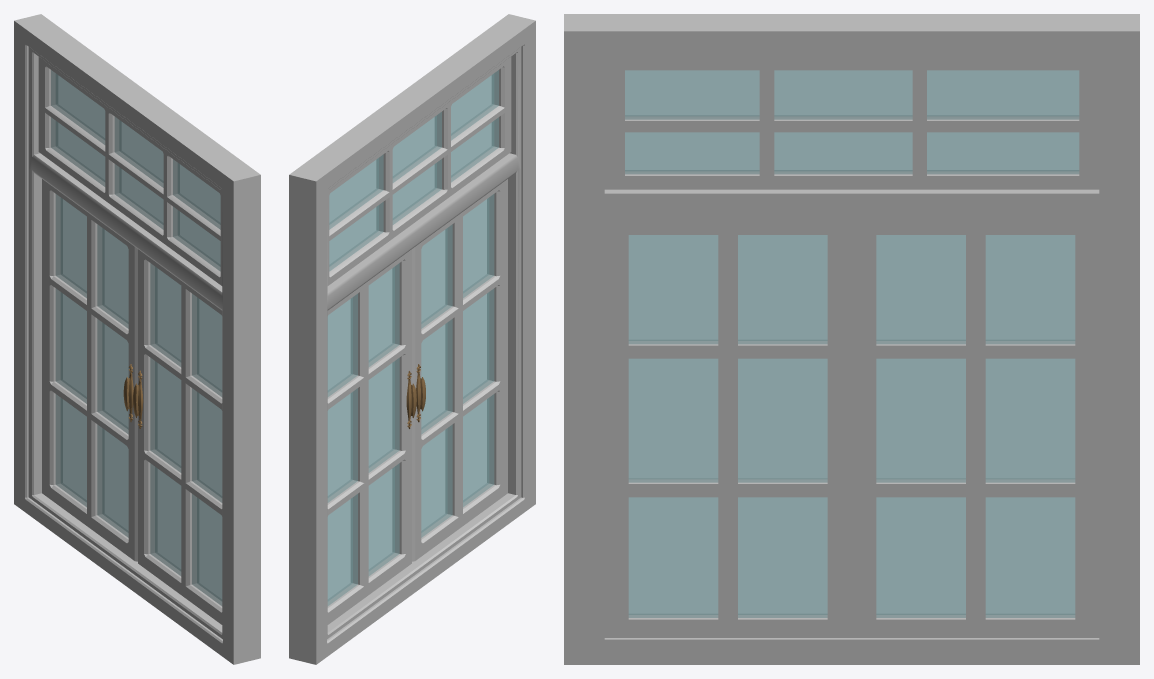
The model's file is Window05_open.FBX.
3 renders of one model, left to right at view 1: azimuth 30°, elevation 25°; view 2: azimuth 150°, elevation 25°; view 3: azimuth 270°, elevation 25°, orthographic. The views are drawn at different scales.
Parts seen in each view (by area): view 1: Window05_open; view 2: Window05_open; view 3: Window05_open.
Boxes of the visible parts, x1,y1,x2,y2 form: Window05_open: [14, 14, 260, 664]; Window05_open: [289, 14, 535, 664]; Window05_open: [564, 14, 1139, 664].
Bounding box in the file's own units: 10 × 140 × 170.
